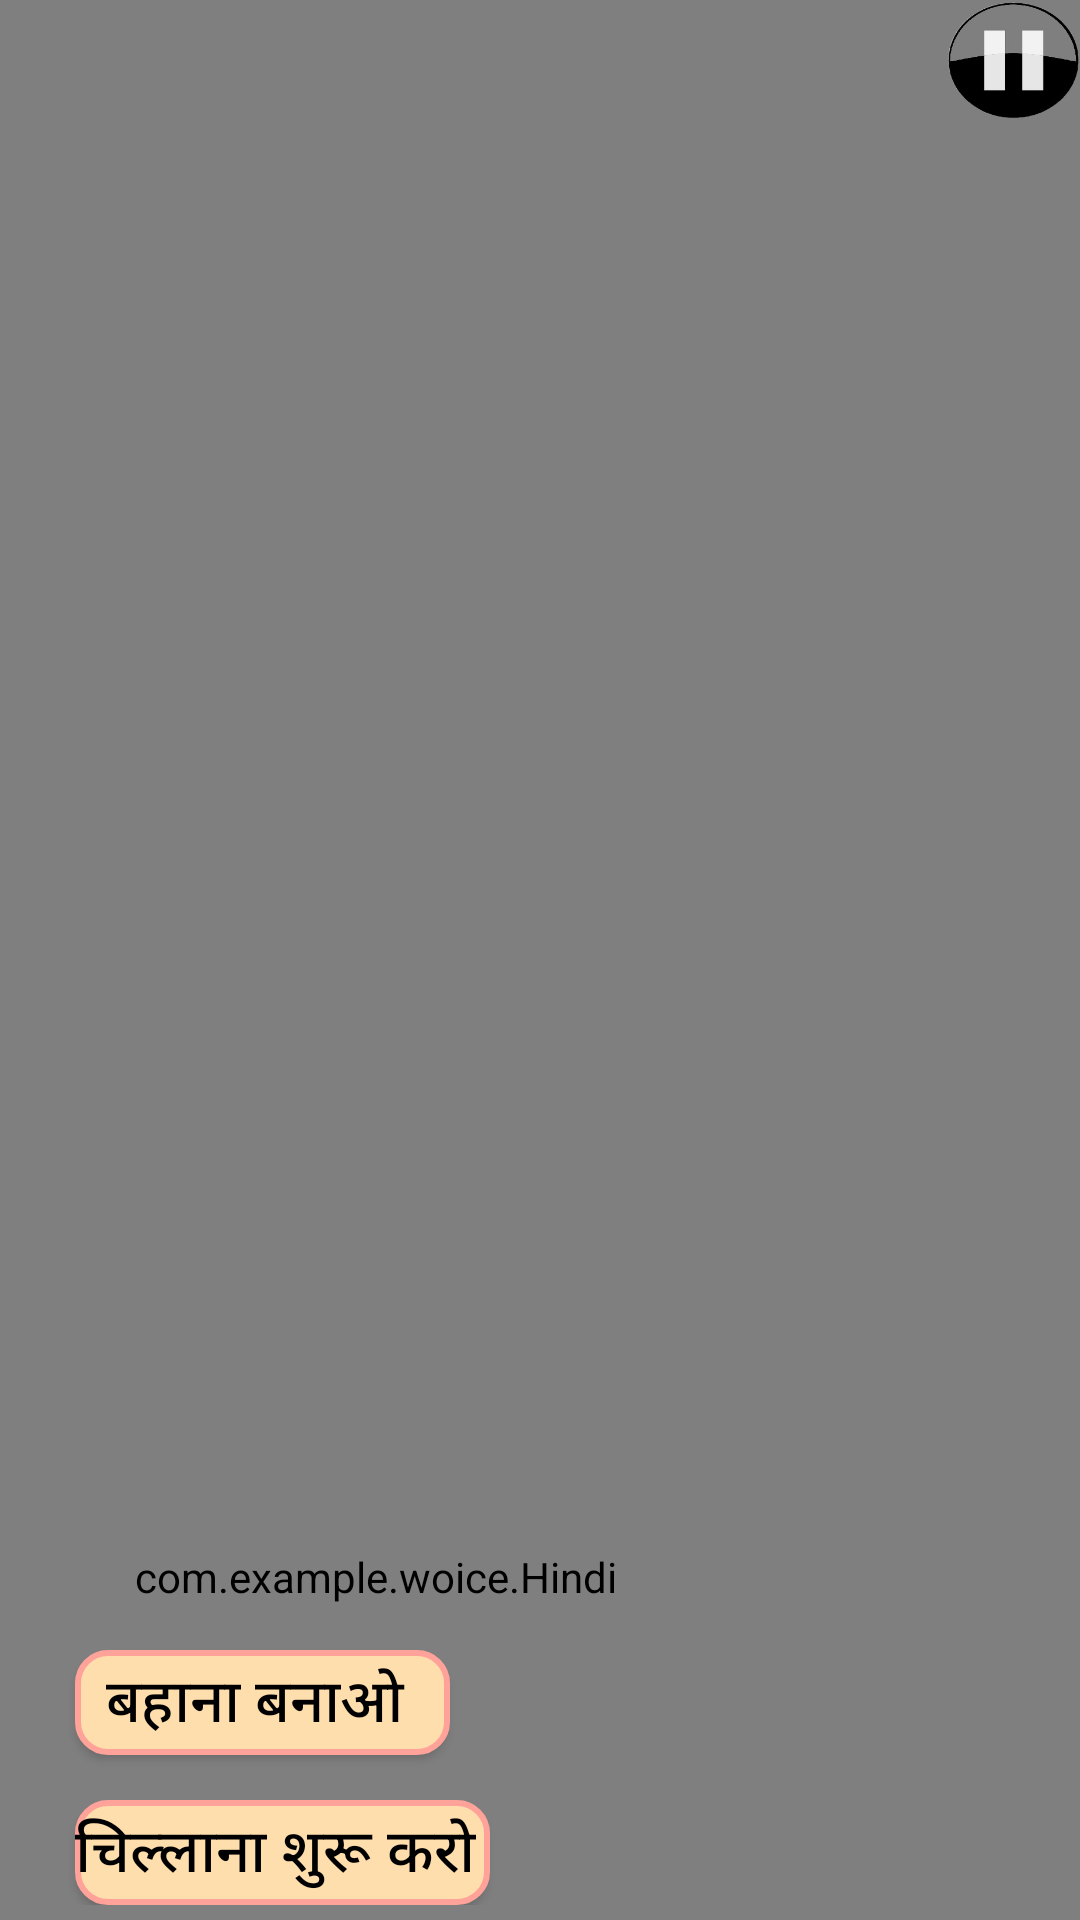

Locate icon controls on the screen. Image size 1080w x 1920h, boxes as {"left": x1, "top": y1, "right": x2, "bottom": y2}.
pauseicon: {"left": 949, "top": 2, "right": 1079, "bottom": 118}
